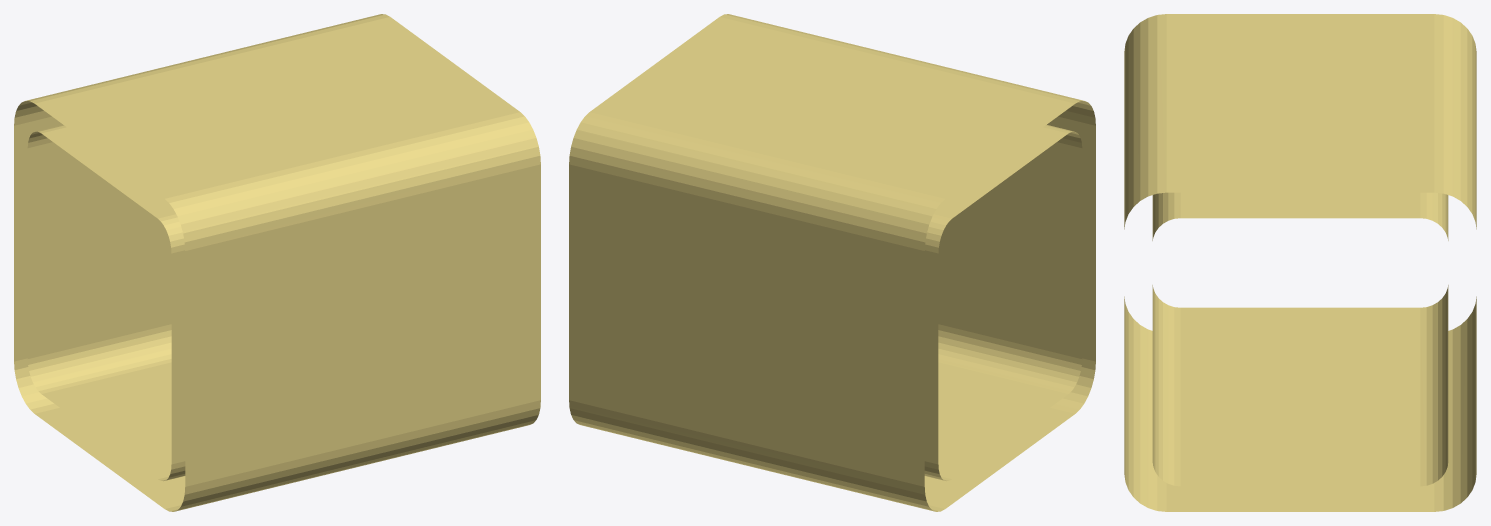
Rendered from RailLeft_16.obj.
3 views of the same model, side by side, from view 1: azimuth 30°, elevation 25°; view 2: azimuth 150°, elevation 25°; view 3: azimuth 270°, elevation 25° (orthographic). The views are drawn at different scales.
Visible parts, largest first — view 1: RailLeft_16_14; view 2: RailLeft_16_14; view 3: RailLeft_16_14.
Part boxes in pixels (x1,y1,x2,y2): RailLeft_16_14: [14, 14, 540, 511]; RailLeft_16_14: [569, 14, 1095, 511]; RailLeft_16_14: [1124, 14, 1476, 511].
Size of the model in its own units: 0.03 by 0.025 by 0.025.
